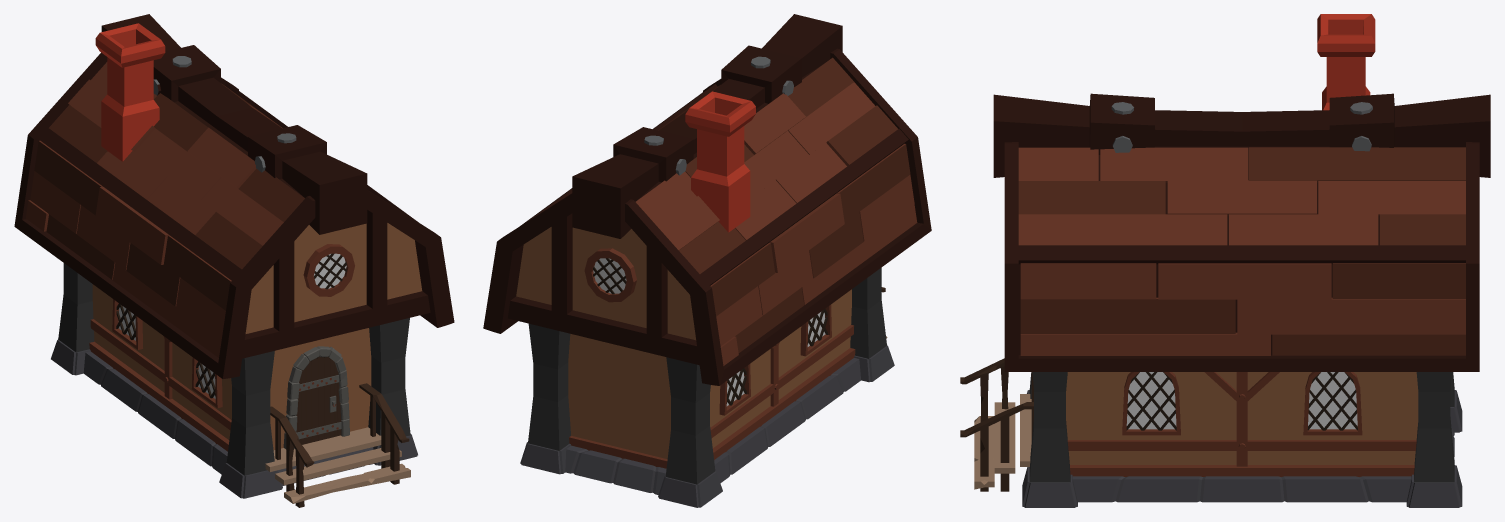
File: SM_Hous_09_B.gltf
The picture shows the model from 3 angles, left to right: view 1: azimuth 30°, elevation 25°; view 2: azimuth 150°, elevation 25°; view 3: azimuth 270°, elevation 25°; orthographic projection. The views are drawn at different scales.
Visible parts, largest first — view 1: SM_Hous_09_B; view 2: SM_Hous_09_B; view 3: SM_Hous_09_B.
Boxes of the visible parts, bbox=[...] form: SM_Hous_09_B: bbox=[14, 14, 454, 507]; SM_Hous_09_B: bbox=[483, 14, 931, 507]; SM_Hous_09_B: bbox=[960, 14, 1490, 507].
Bounding box in the file's own units: 5.48 × 8.05 × 9.52.
